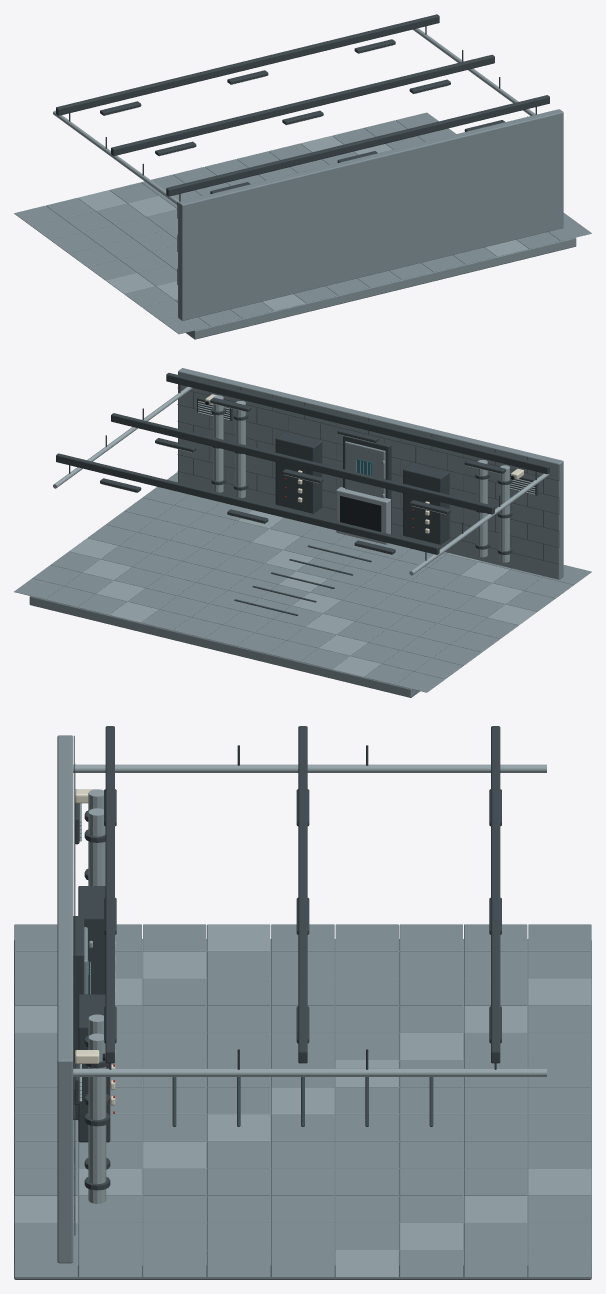
The model's file is maintenance.glb.
The picture shows the model from 3 angles, top to bottom: view 1: azimuth 30°, elevation 25°; view 2: azimuth 150°, elevation 25°; view 3: azimuth 270°, elevation 25°; orthographic projection. The views are drawn at different scales.
Visible parts, largest first — view 1: maintenance-blue painted masonry, maintenance-forged graphite steel, maintenance-galvanized edges; view 2: maintenance-blue painted masonry, maintenance-forged graphite steel, maintenance-galvanized edges, maintenance-rubber; view 3: maintenance-blue painted masonry, maintenance-galvanized edges, maintenance-forged graphite steel, maintenance-aged paper.
Boxes of the visible parts, x1=… form: maintenance-blue painted masonry: x1=14, y1=109, x2=591, y2=339; maintenance-forged graphite steel: x1=56, y1=14, x2=549, y2=301; maintenance-galvanized edges: x1=53, y1=28, x2=535, y2=310; maintenance-blue painted masonry: x1=14, y1=368, x2=591, y2=697; maintenance-forged graphite steel: x1=56, y1=373, x2=559, y2=615; maintenance-galvanized edges: x1=53, y1=386, x2=548, y2=677; maintenance-rubber: x1=205, y1=401, x2=514, y2=531; maintenance-blue painted masonry: x1=14, y1=735, x2=591, y2=1279; maintenance-galvanized edges: x1=14, y1=764, x2=591, y2=1277; maintenance-forged graphite steel: x1=73, y1=726, x2=501, y2=1235; maintenance-aged paper: x1=75, y1=789, x2=115, y2=1105.
Bounding box in the file's own units: 12.99 × 3.94 × 9.
